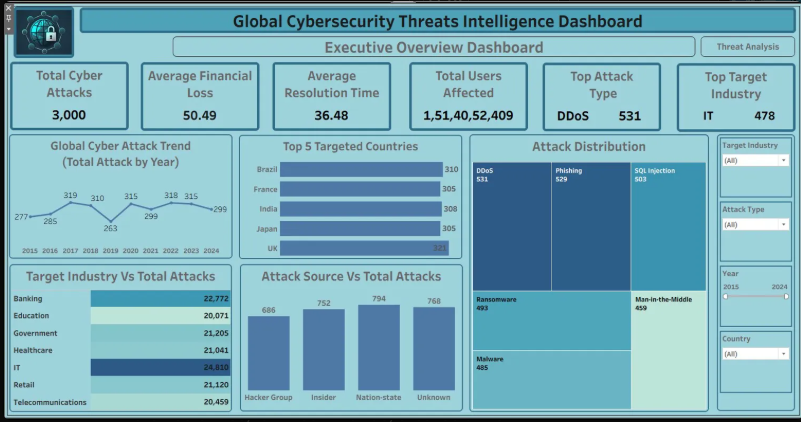

This screenshot's page, from the dashboard's own definition file:
{"tool":"tableau","page":{"name":"Executive Threat Overview","canvas":[1000,1000],"units":"permille","ordinal":0},"visuals":[{"type":"dashboard-object","param":"[com.tableau.addfilters].[0.0.0].[https://extensions.tableauusercontent.com/sand","box":[7.9,15.3,984.3,969.4]},{"type":"image","param":"E:/Global_SBC.png","box":[18.7,21.2,74.8,121]},{"type":"text","box":[100.2,23.5,884.1,59.9]},{"type":"text","box":[215.5,91.7,645.1,47]},{"type":"dashboard-object","box":[867,91.7,116.3,47]},{"type":"worksheet","title":"Sheet 3","mark":"Automatic","box":[14.5,150.4,146.7,161]},{"type":"worksheet","title":"Sheet 1","mark":"Automatic","box":[175.6,151.6,146.7,161]},{"type":"worksheet","title":"Sheet 2","mark":"Automatic","box":[338.6,151.6,146.7,161]},{"type":"worksheet","title":"Sheet 4","mark":"Automatic","box":[506.9,151.6,146.7,161]},{"type":"worksheet","title":"Sheet 5","mark":"Automatic","rows":["Attack Type"],"box":[671.7,152.8,146.7,161]},{"type":"worksheet","title":"Sheet 6","mark":"Automatic","rows":["Target Industry"],"box":[837.7,153.9,146.7,161]},{"type":"worksheet","title":"Attack Trend","mark":"Automatic","rows":["Calculation_3303276370116608"],"cols":["Year"],"box":[13.3,320.8,275.8,291.4]},{"type":"worksheet","title":"Attack Distribution","mark":"Automatic","box":[581.3,320.8,295.6,651]},{"type":"worksheet","title":"Top 5 country","mark":"Automatic","rows":["Country"],"cols":["Calculation_3303276370116608"],"box":[296.9,322,275.8,291.4]},{"type":"filter","title":"Attack Source Vs Total Attacks","param":"[federated.03sxa5z1kqe3aa16jkszu11riw0x].[none:Target Industry:nk]","box":[887.8,323.2,94.1,150.4]},{"type":"filter","title":"Attack Source Vs Total Attacks","param":"[federated.03sxa5z1kqe3aa16jkszu11riw0x].[none:Attack Type:nk]","box":[887.8,473.6,94.1,150.4]},{"type":"filter","title":"Attack Source Vs Total Attacks","param":"[federated.03sxa5z1kqe3aa16jkszu11riw0x].[none:Year:qk]","box":[887.8,624,94.1,152.8]},{"type":"worksheet","title":"Target Industry Vs Financial Loss","mark":"Square","rows":["Target Industry"],"box":[13.9,625.1,274.6,346.7]},{"type":"worksheet","title":"Attack Source Vs Total Attacks","mark":"Automatic","rows":["Calculation_3303276370116608"],"cols":["Attack Source"],"box":[298.1,625.1,275.2,345.5]},{"type":"filter","title":"Attack Source Vs Total Attacks","param":"[federated.03sxa5z1kqe3aa16jkszu11riw0x].[none:Country:nk]","box":[887.8,776.7,94.1,155.1]}]}

Visuals, with their boxes on the dashboard's canvas, which has no fixed pixel size, in thousandths of its width and height (x1, y1, x2, y2). These are canvas units, not pixel positions in the 801x422 screenshot, which may show the page scaled, cropped or inside an application window:
dashboard-object: crop(8, 15, 992, 985)
image: crop(19, 21, 94, 142)
text: crop(100, 24, 984, 83)
text: crop(216, 92, 861, 139)
dashboard-object: crop(867, 92, 983, 139)
"Sheet 3" worksheet: crop(14, 150, 161, 311)
"Sheet 1" worksheet: crop(176, 152, 322, 313)
"Sheet 2" worksheet: crop(339, 152, 485, 313)
"Sheet 4" worksheet: crop(507, 152, 654, 313)
"Sheet 5" worksheet: crop(672, 153, 818, 314)
"Sheet 6" worksheet: crop(838, 154, 984, 315)
"Attack Trend" worksheet: crop(13, 321, 289, 612)
"Attack Distribution" worksheet: crop(581, 321, 877, 972)
"Top 5 country" worksheet: crop(297, 322, 573, 613)
"Attack Source Vs Total Attacks" filter: crop(888, 323, 982, 474)
"Attack Source Vs Total Attacks" filter: crop(888, 474, 982, 624)
"Attack Source Vs Total Attacks" filter: crop(888, 624, 982, 777)
"Target Industry Vs Financial Loss" worksheet (Square marks): crop(14, 625, 288, 972)
"Attack Source Vs Total Attacks" worksheet: crop(298, 625, 573, 971)
"Attack Source Vs Total Attacks" filter: crop(888, 777, 982, 932)
